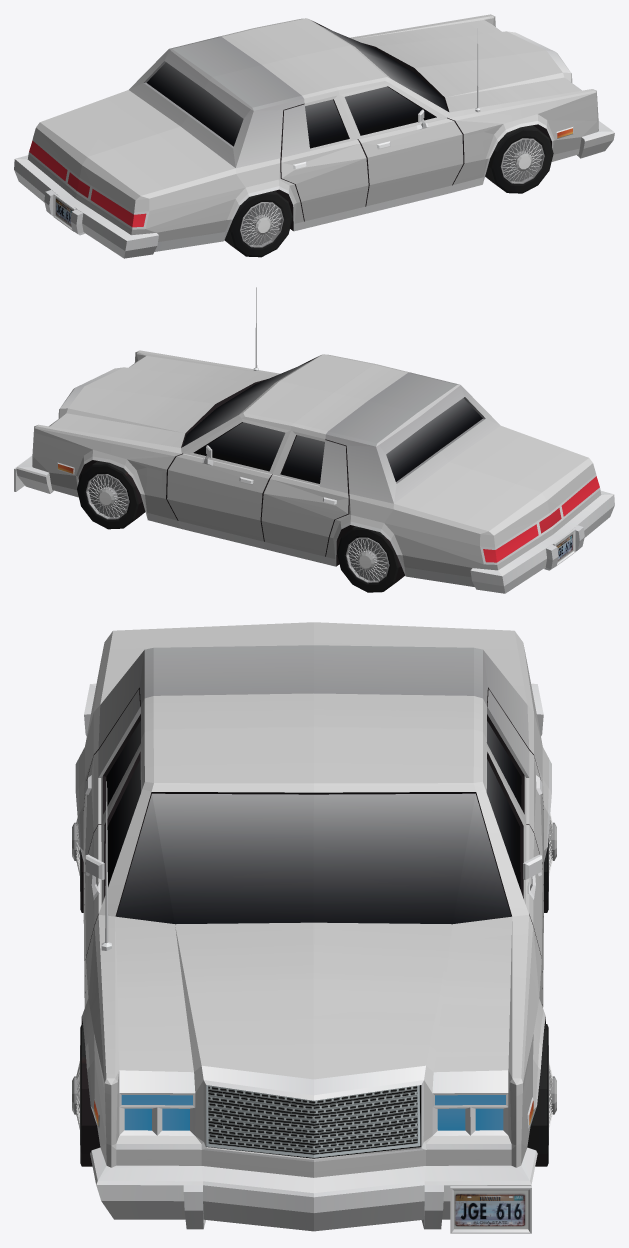
The model's file is cartoon_low_poly_chrysler_new_yorker_1980.glb.
The picture shows the model from 3 angles, top to bottom: view 1: azimuth 30°, elevation 25°; view 2: azimuth 150°, elevation 25°; view 3: azimuth 270°, elevation 25°; orthographic projection. The views are drawn at different scales.
Parts seen in each view (by area): view 1: Crysler, Tire_front_L_3; view 2: Crysler, Tire_front_L_3; view 3: Crysler, Tire_front_L_3.
Boxes of the visible parts, box(x1,y1,x2,y2) form: Crysler: box(14, 14, 614, 258); Tire_front_L_3: box(224, 125, 553, 257); Crysler: box(14, 287, 614, 593); Tire_front_L_3: box(77, 461, 404, 592); Crysler: box(75, 622, 551, 1233); Tire_front_L_3: box(72, 813, 556, 1166).
Bounding box in the file's own units: 494 × 158 × 203.
Materials: 1 (1 with a texture image).
